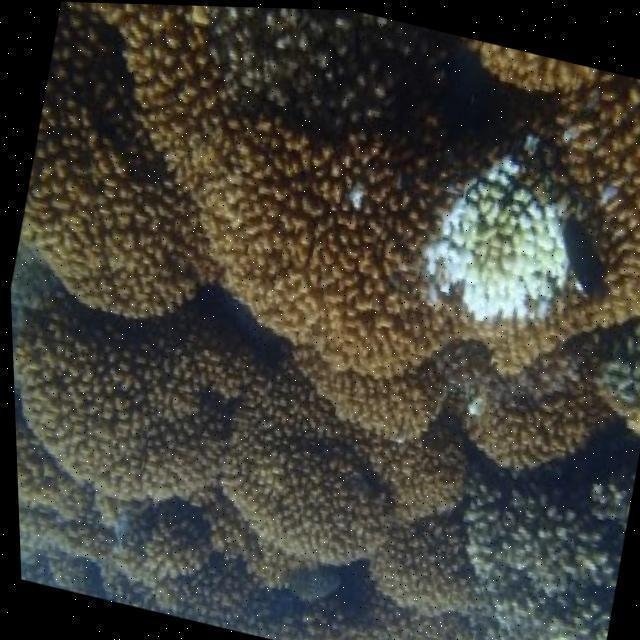Bleached Coral: (421, 148, 596, 328)
Healthy Coral: (32, 7, 393, 550)
